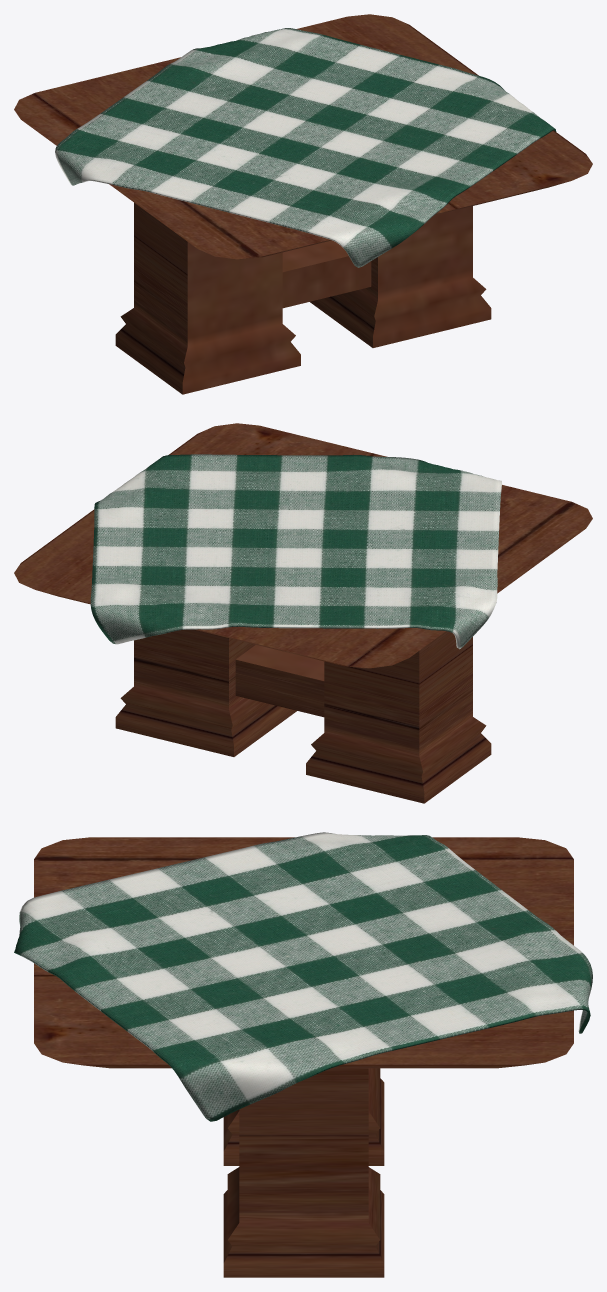
The model's file is Meja makan.fbx.
The picture shows the model from 3 angles, top to bottom: view 1: azimuth 30°, elevation 25°; view 2: azimuth 150°, elevation 25°; view 3: azimuth 270°, elevation 25°; orthographic projection. The views are drawn at different scales.
Visible parts, largest first — view 1: Mejamakan_LOD0; view 2: Mejamakan_LOD0; view 3: Mejamakan_LOD0.
Boxes of the visible parts, left/top/right/bottom form: Mejamakan_LOD0: left=14, top=14, right=592, bottom=394; Mejamakan_LOD0: left=14, top=423, right=592, bottom=803; Mejamakan_LOD0: left=14, top=832, right=592, bottom=1277.
Size of what is drawn, in the model's own units: 459 by 217 by 468.
Materials: 2 (2 with a texture image).
